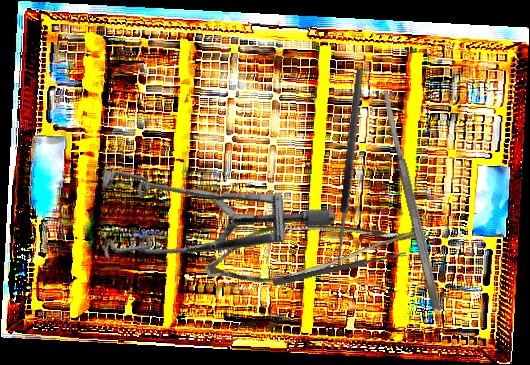Hook Surgical: (332, 68, 375, 272)
Micro Scissor: (199, 173, 431, 318)
Spatula Surgical: (379, 88, 443, 312)
Speculum: (61, 90, 340, 355)
Surgical Spoon: (272, 249, 408, 288)
